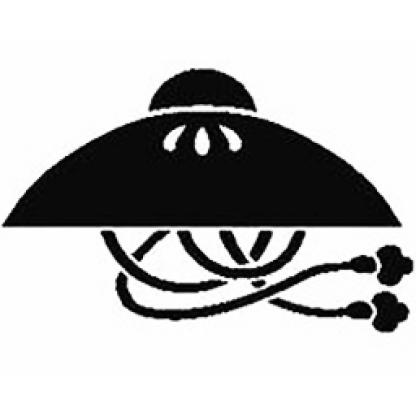kamon: (0, 63, 415, 340)
